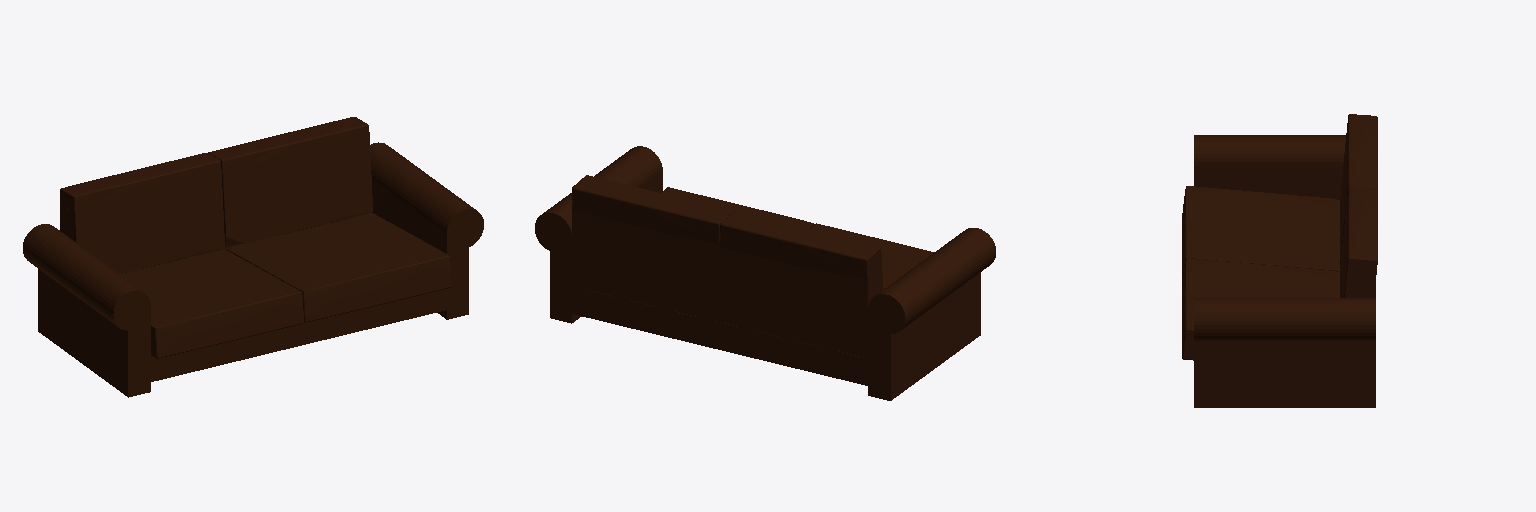
File: couchTwoSeats.obj
The picture shows the model from 3 angles: view 1: azimuth 30°, elevation 25°; view 2: azimuth 150°, elevation 25°; view 3: azimuth 270°, elevation 25°; orthographic projection.
Visible parts, largest first — view 1: rugleuning_links_1, rugleuning_links, kussen_rechts, kussen_links, Cube_3.002, Cube_1.002, Cylinder_2.001, Cylinder_2_1.001, Cube_3_1.002; view 2: achterschot, Cube_1.002, Cube_3.002, rugleuning_links, Cylinder_2.001, rugleuning_links_1, Cylinder_2_1.001, Cube_3_1.002, kussen_links, kussen_rechts; view 3: Cube_3_1.002, kussen_links, Cylinder_2_1.001, kussen_rechts, Cylinder_2.001, Cube_3.002, rugleuning_links_1, rugleuning_links.
Boxes of the visible parts, box(x1,y1,x2,y2) form: rugleuning_links_1: box(208, 117, 372, 246); rugleuning_links: box(60, 153, 224, 273); kussen_rechts: box(225, 213, 451, 322); kussen_links: box(120, 249, 303, 358); Cube_3.002: box(38, 269, 150, 397); Cube_1.002: box(149, 289, 448, 381); Cylinder_2.001: box(23, 224, 150, 330); Cylinder_2_1.001: box(370, 142, 483, 248); Cube_3_1.002: box(372, 179, 468, 319); achterschot: box(572, 202, 877, 385); Cube_1.002: box(570, 286, 869, 385); Cube_3.002: box(868, 272, 980, 400); rugleuning_links: box(720, 211, 882, 292); Cylinder_2.001: box(868, 228, 995, 333); rugleuning_links_1: box(572, 175, 732, 242); Cylinder_2_1.001: box(535, 146, 662, 252); Cube_3_1.002: box(550, 171, 662, 323); kussen_links: box(810, 223, 933, 289); kussen_rechts: box(662, 187, 813, 228); Cube_3_1.002: box(1194, 341, 1375, 407); kussen_links: box(1182, 186, 1339, 285); Cylinder_2_1.001: box(1194, 298, 1375, 340); kussen_rechts: box(1182, 258, 1339, 360); Cylinder_2.001: box(1194, 135, 1345, 165); Cube_3.002: box(1194, 166, 1342, 199); rugleuning_links_1: box(1340, 186, 1377, 297); rugleuning_links: box(1340, 114, 1377, 269).
Bounding box in the file's own units: 1.98 × 0.7201 × 0.9062.